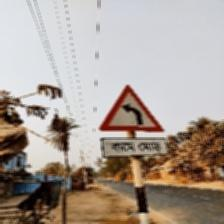Left-Turn: (97, 85, 168, 160)
